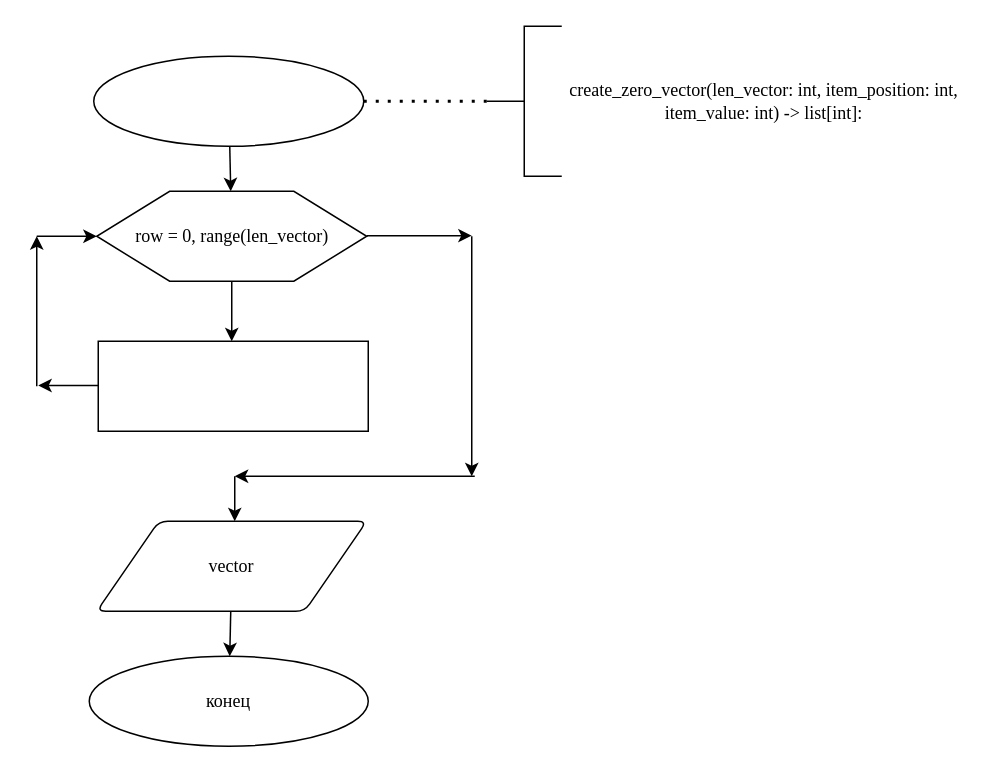
This 993x773 diagram has some shape labels left out. Here are the shapes that lost their labels. From the top down, the box of each, then its label:
(92, 55, 364, 146): начало
(97, 340, 368, 431): vector[item_position] = item_value
